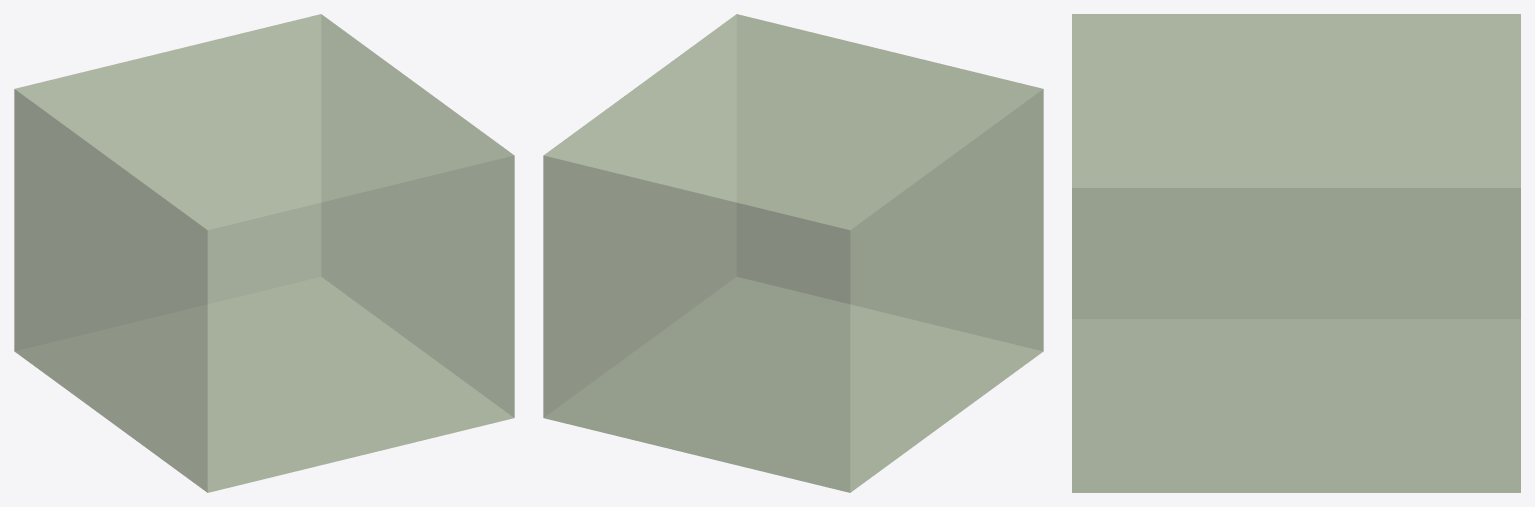
Rendered from blockout.glb.
3 views of the same model, side by side, from view 1: azimuth 30°, elevation 25°; view 2: azimuth 150°, elevation 25°; view 3: azimuth 270°, elevation 25° (orthographic). The views are drawn at different scales.
Parts seen in each view (by area): view 1: U19_ENVELOPE_NOT_FINAL_MESH; view 2: U19_ENVELOPE_NOT_FINAL_MESH; view 3: U19_ENVELOPE_NOT_FINAL_MESH.
Boxes of the visible parts, box(x1,y1,x2,y2) form: U19_ENVELOPE_NOT_FINAL_MESH: box(14, 14, 514, 492); U19_ENVELOPE_NOT_FINAL_MESH: box(543, 14, 1043, 492); U19_ENVELOPE_NOT_FINAL_MESH: box(1072, 14, 1520, 492).
Size of the model in its own units: 2.2 by 1.8 by 2.4.
